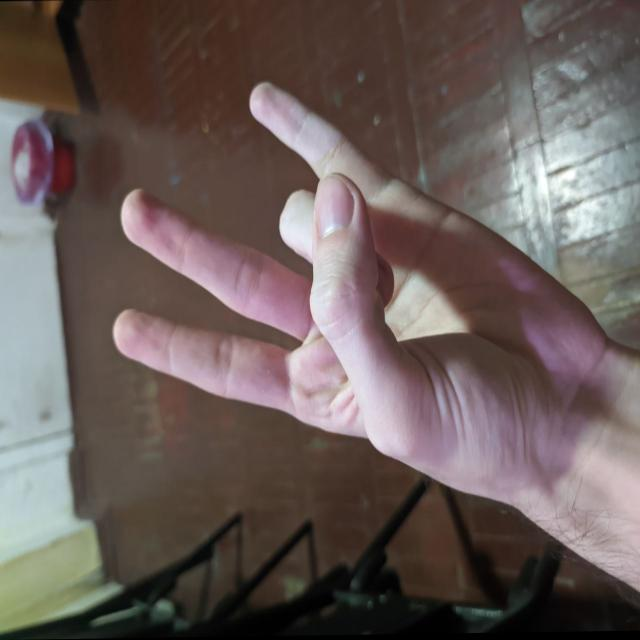n: (74, 99, 578, 469)
